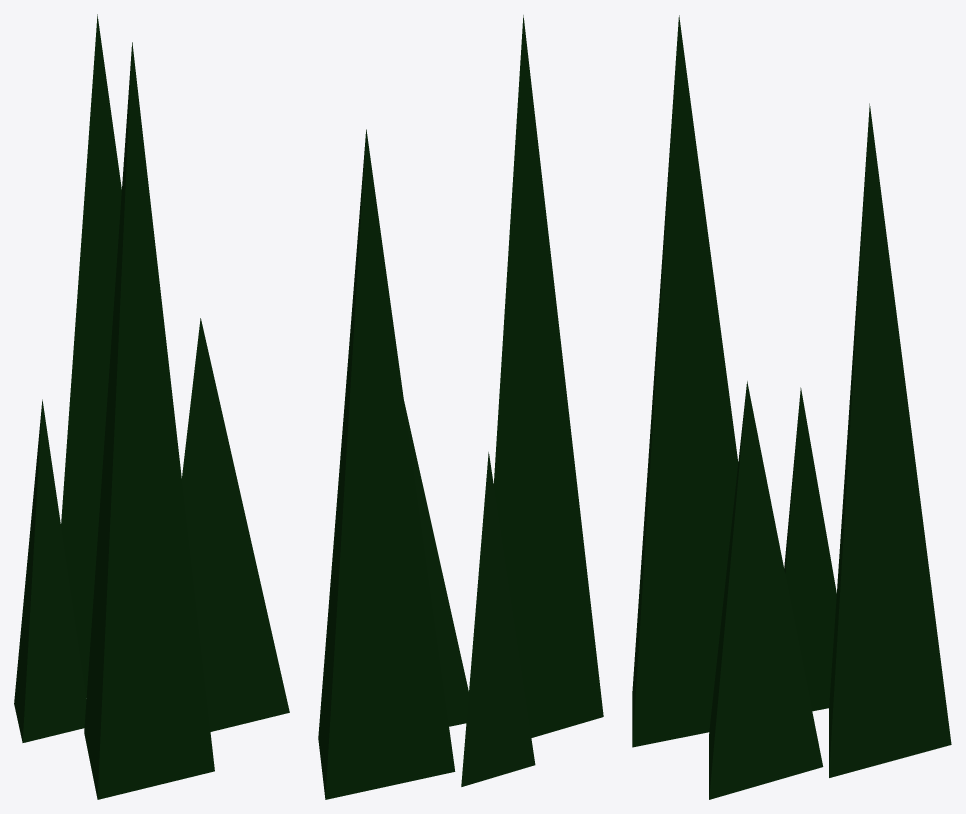
File: Herba.obj
3 views of the same model, side by side, from view 1: azimuth 30°, elevation 25°; view 2: azimuth 150°, elevation 25°; view 3: azimuth 270°, elevation 25° (orthographic). The views are drawn at different scales.
Parts seen in each view (by area): view 1: Herba.002, Herba.004, Herba.001, Herba.003; view 2: Herba.001, Herba.002, Herba.003, Herba.004; view 3: Herba.002, Herba.001, Herba.004, Herba.003.
Part boxes in pixels (<box>): Herba.002: <box>84,42,214,799</box>; Herba.004: <box>182,318,289,731</box>; Herba.001: <box>61,14,121,698</box>; Herba.003: <box>14,399,86,742</box>; Herba.001: <box>318,129,455,799</box>; Herba.002: <box>493,15,603,737</box>; Herba.003: <box>461,452,535,786</box>; Herba.004: <box>404,401,468,726</box>; Herba.002: <box>632,15,738,747</box>; Herba.001: <box>829,103,951,777</box>; Herba.004: <box>709,381,823,799</box>; Herba.003: <box>784,387,836,711</box>.
Size of the model in its own units: 0.2112 by 0.627 by 0.257.
